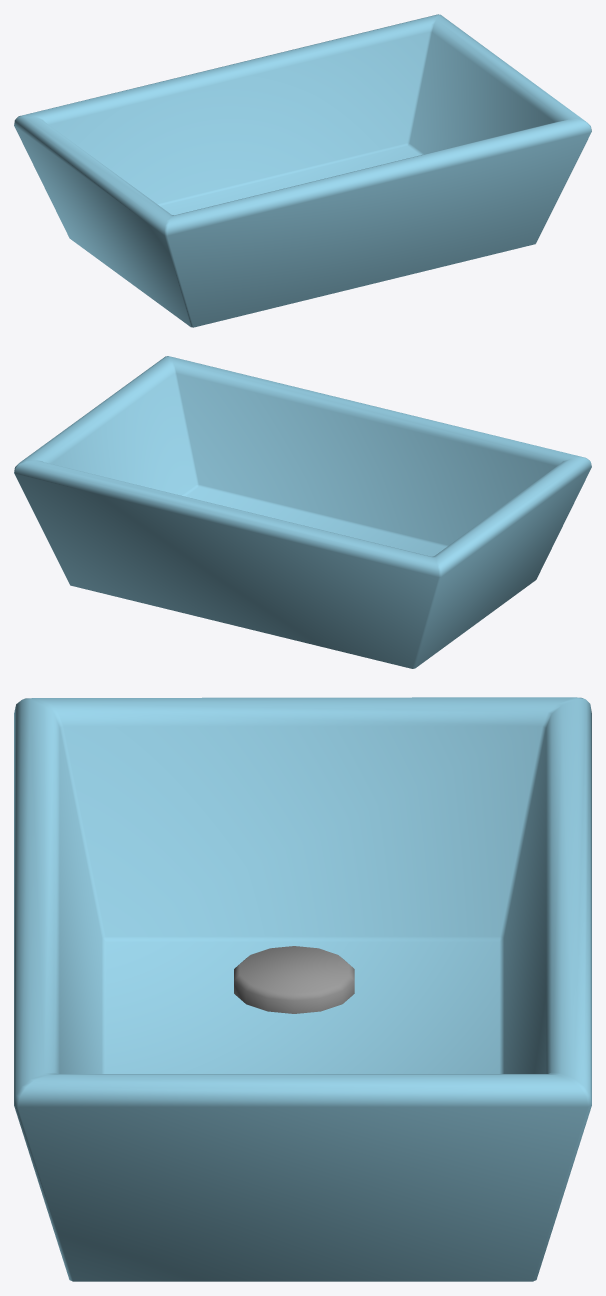
Rendered from BATHROOM_washBasin_02.FBX.
3 views of the same model, one above another, from view 1: azimuth 30°, elevation 25°; view 2: azimuth 150°, elevation 25°; view 3: azimuth 270°, elevation 25° (orthographic). The views are drawn at different scales.
Parts seen in each view (by area): view 1: BATHROOM_washBasin_02; view 2: BATHROOM_washBasin_02; view 3: BATHROOM_washBasin_02.
Boxes of the visible parts, box(x1,y1,x2,y2) form: BATHROOM_washBasin_02: box(14, 14, 591, 327); BATHROOM_washBasin_02: box(14, 356, 591, 668); BATHROOM_washBasin_02: box(14, 697, 591, 1281).
Bounding box in the file's own units: 79.1 × 21.71 × 48.91.
